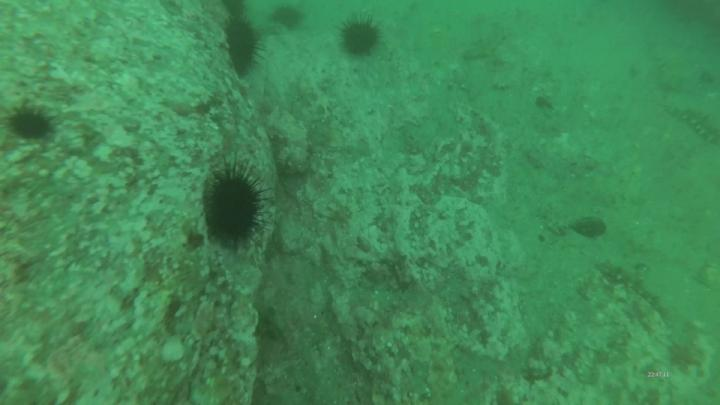echinus: (201, 156, 266, 255), (226, 17, 266, 77), (336, 15, 385, 61), (3, 103, 55, 143), (268, 5, 305, 33), (221, 1, 250, 19)
holothurian: (598, 260, 671, 322), (680, 107, 720, 153)
